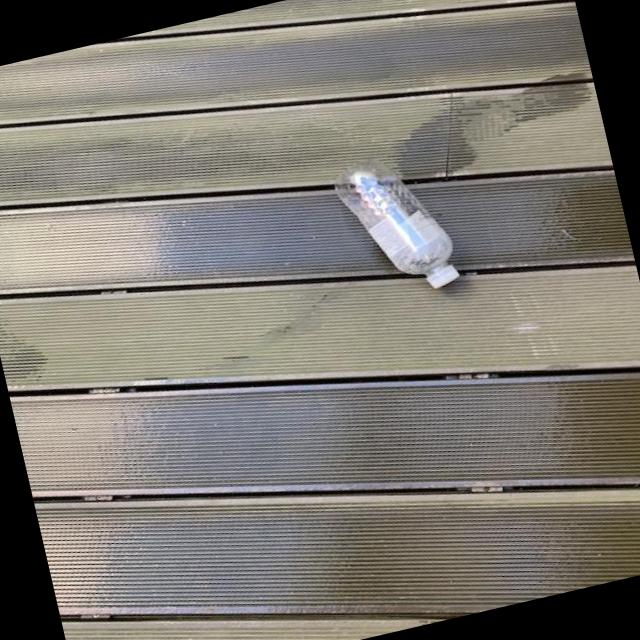plastic_bottle: (331, 146, 462, 306)
